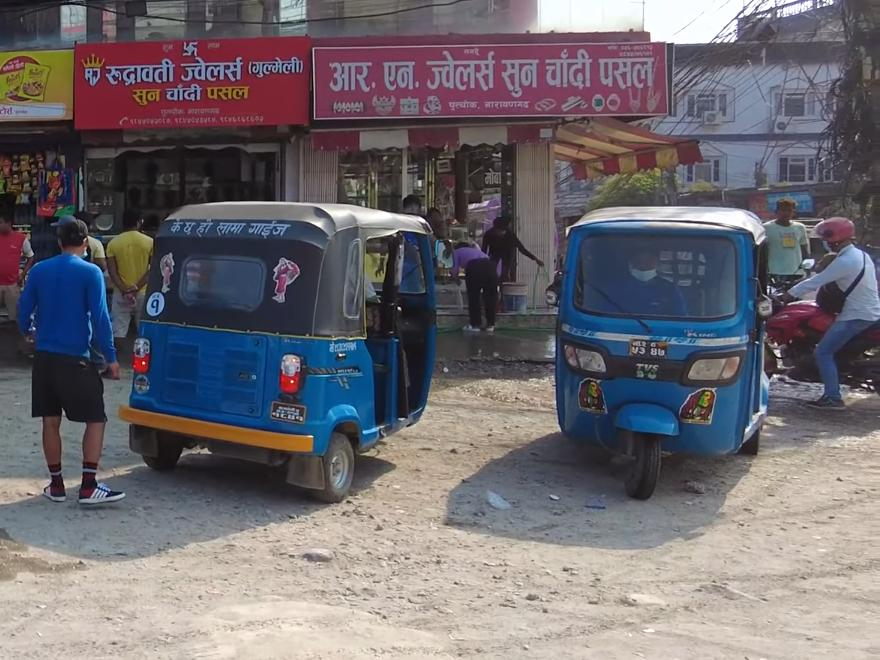auto_rickshaw: (117, 197, 441, 506), (555, 196, 781, 499)
